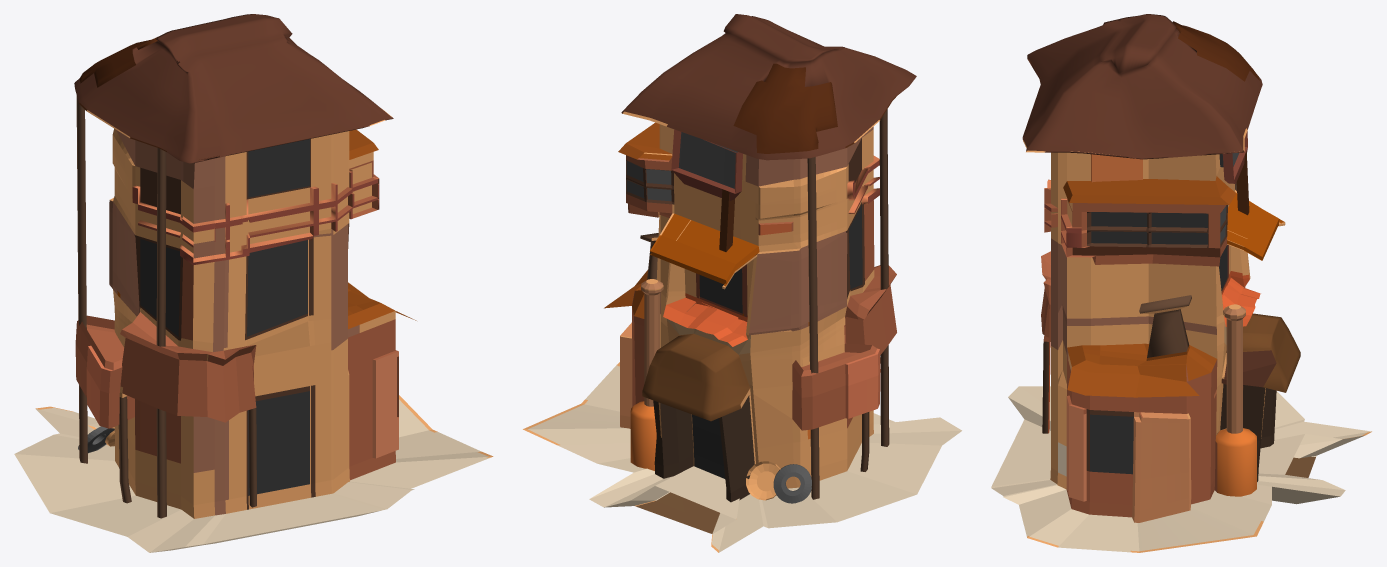
File: HOUSE.fbx
3 views of the same model, side by side, from view 1: azimuth 30°, elevation 25°; view 2: azimuth 150°, elevation 25°; view 3: azimuth 270°, elevation 25° (orthographic). The views are drawn at different scales.
Parts seen in each view (by area): view 1: Cube; view 2: Cube; view 3: Cube.
Part boxes in pixels (x1,y1,x2,y2): Cube: (14, 14, 493, 552); Cube: (523, 14, 961, 552); Cube: (991, 14, 1371, 552).
Bounding box in the file's own units: 314 × 378 × 292.
